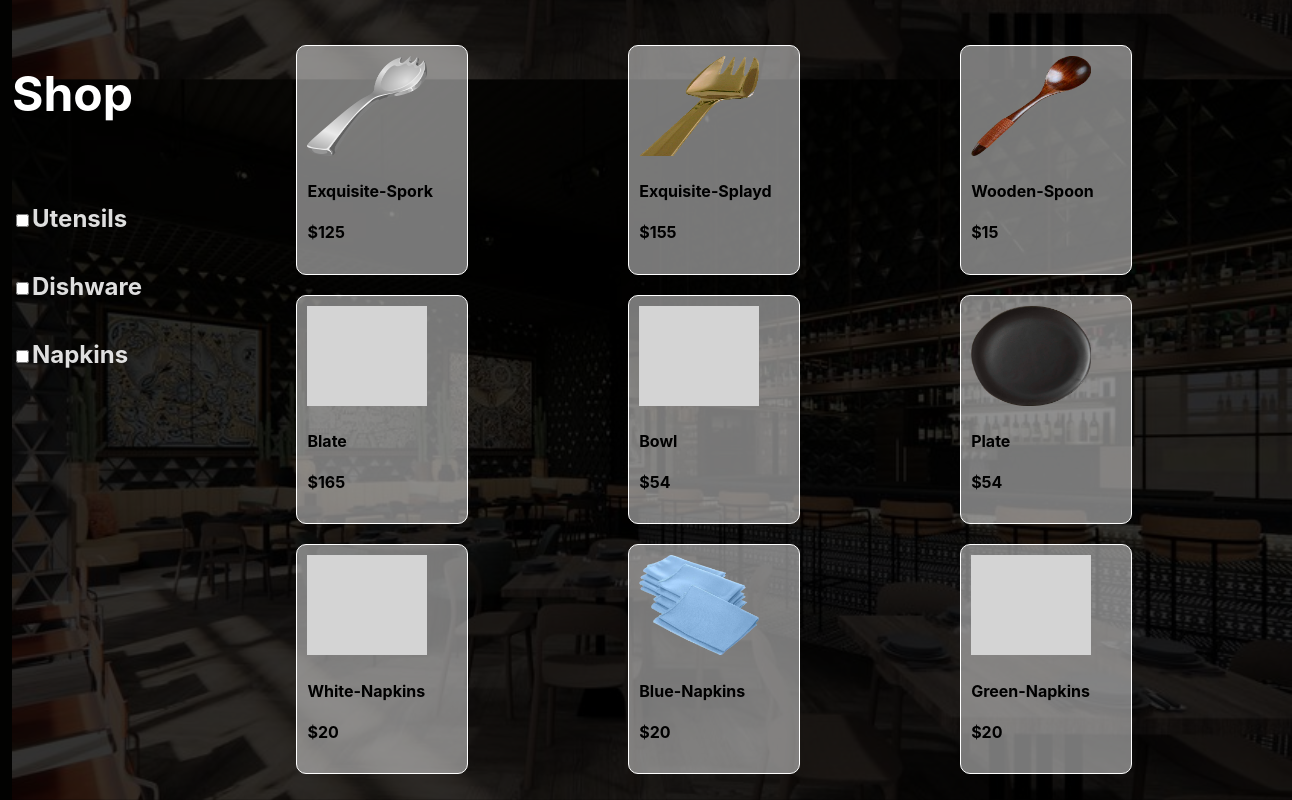
Scenario: Shop Component › Utensil Filter only renders Utensils
Click the checkbox with placeholder "Utensils" next to "Utensils".
click(22, 220)  # box [16,214,29,226]
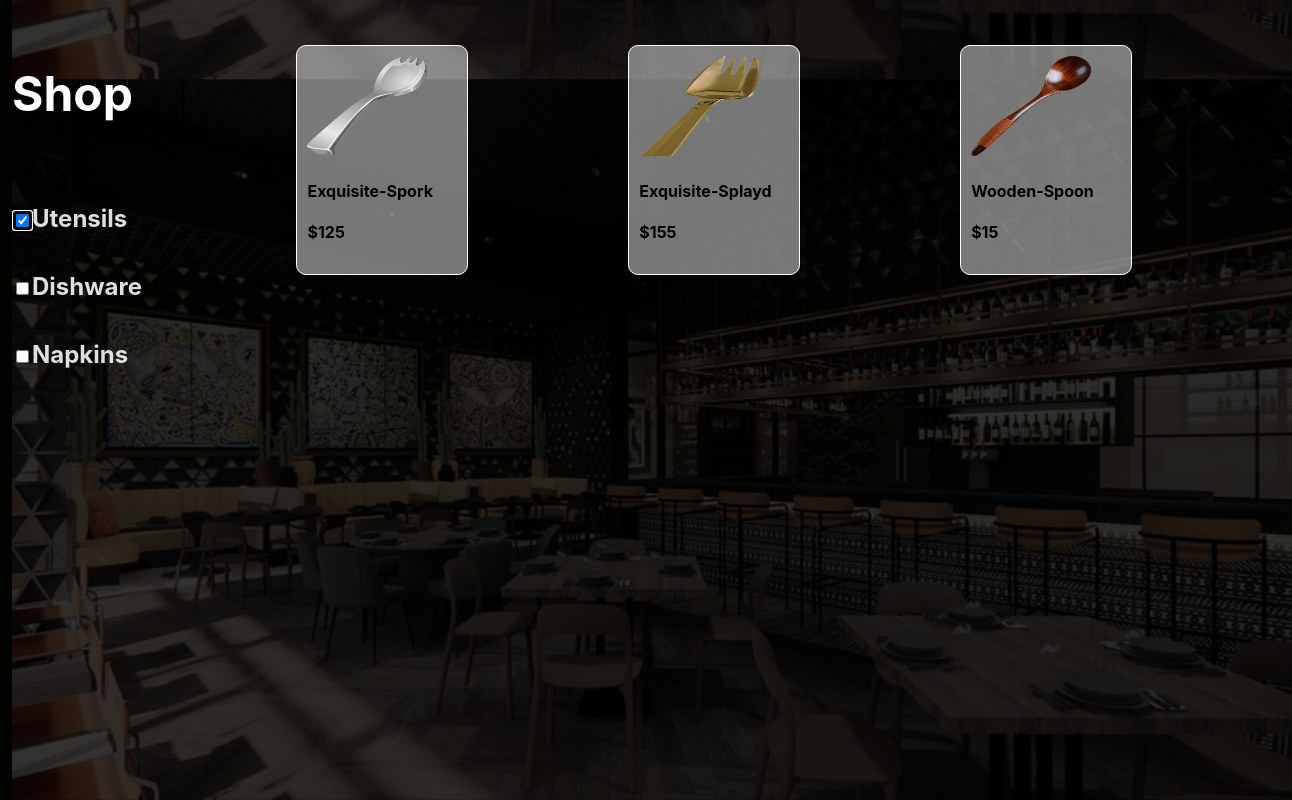
Result: the link "Bowl" is gone
